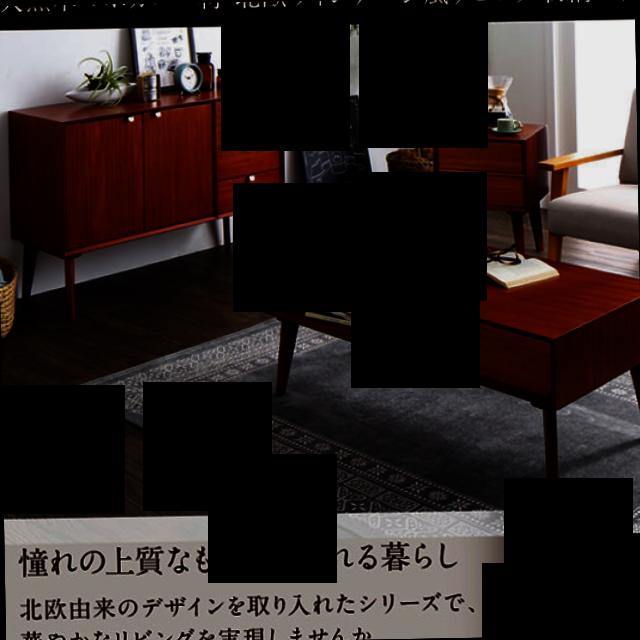vintage shelf: (254, 210, 640, 512), (0, 75, 289, 257), (429, 114, 542, 243)
